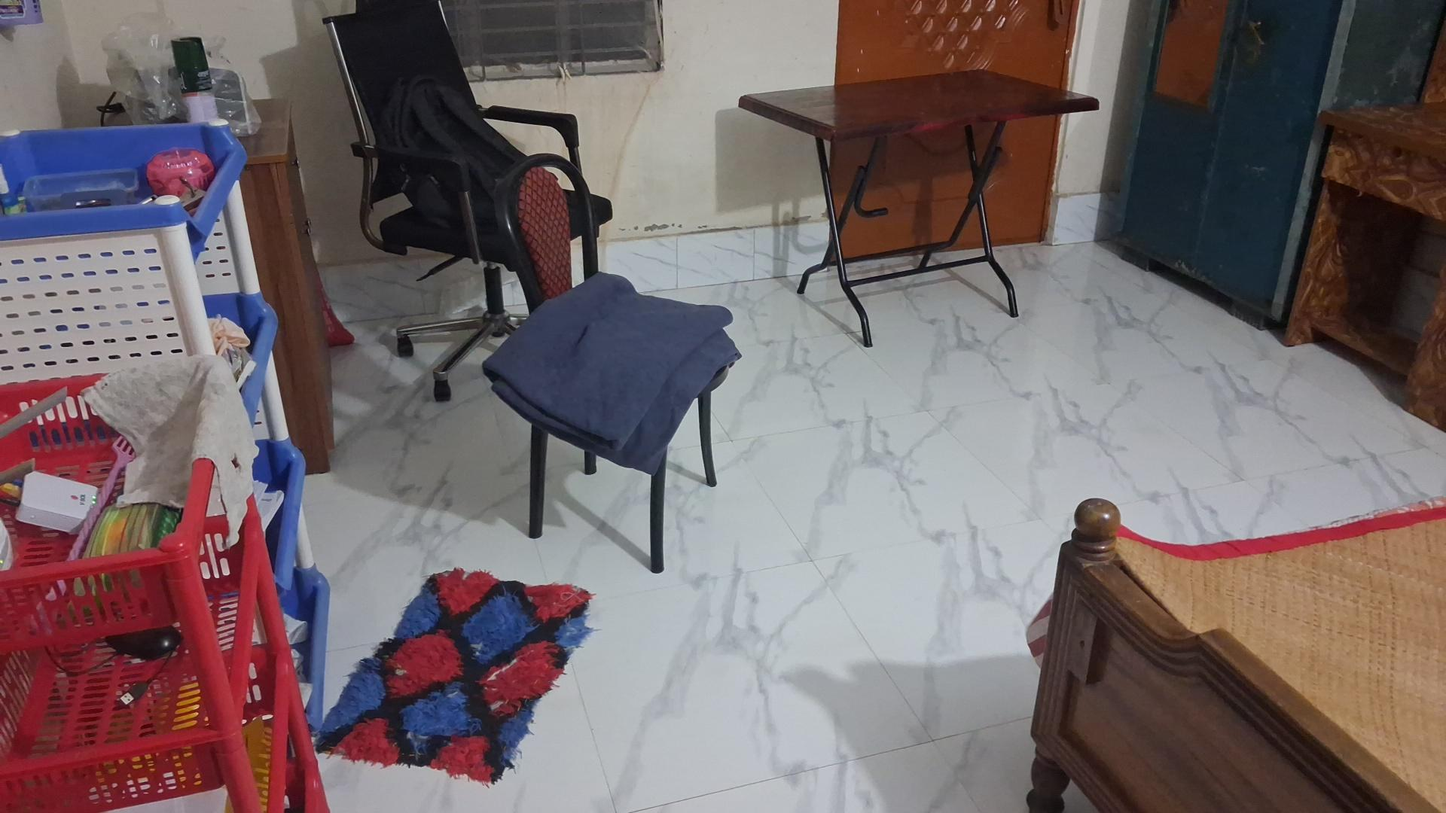Chair: (323, 0, 605, 402), (490, 151, 744, 574)
Floor Mat: (326, 564, 589, 792)
Rack: (0, 115, 325, 752), (0, 356, 336, 813)
Table: (733, 61, 1100, 334), (480, 279, 735, 467)
